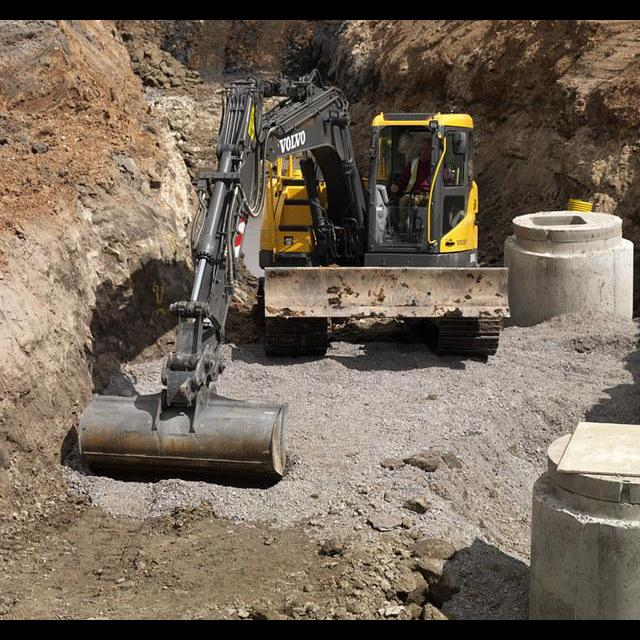Excavator: (78, 69, 507, 485)
NO-Hardhat: (420, 138, 432, 146)
NO-Mask: (421, 152, 432, 161)
Person: (390, 138, 451, 235)
Safety Vest: (405, 158, 419, 194)
